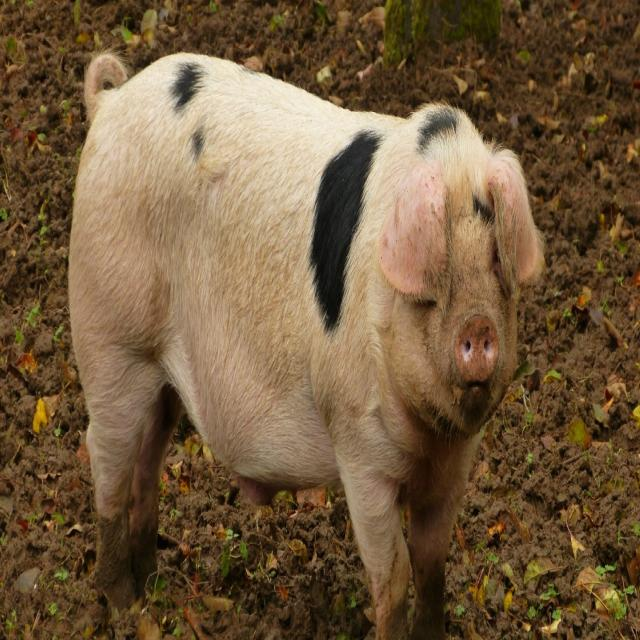pig: (68, 53, 545, 640)
